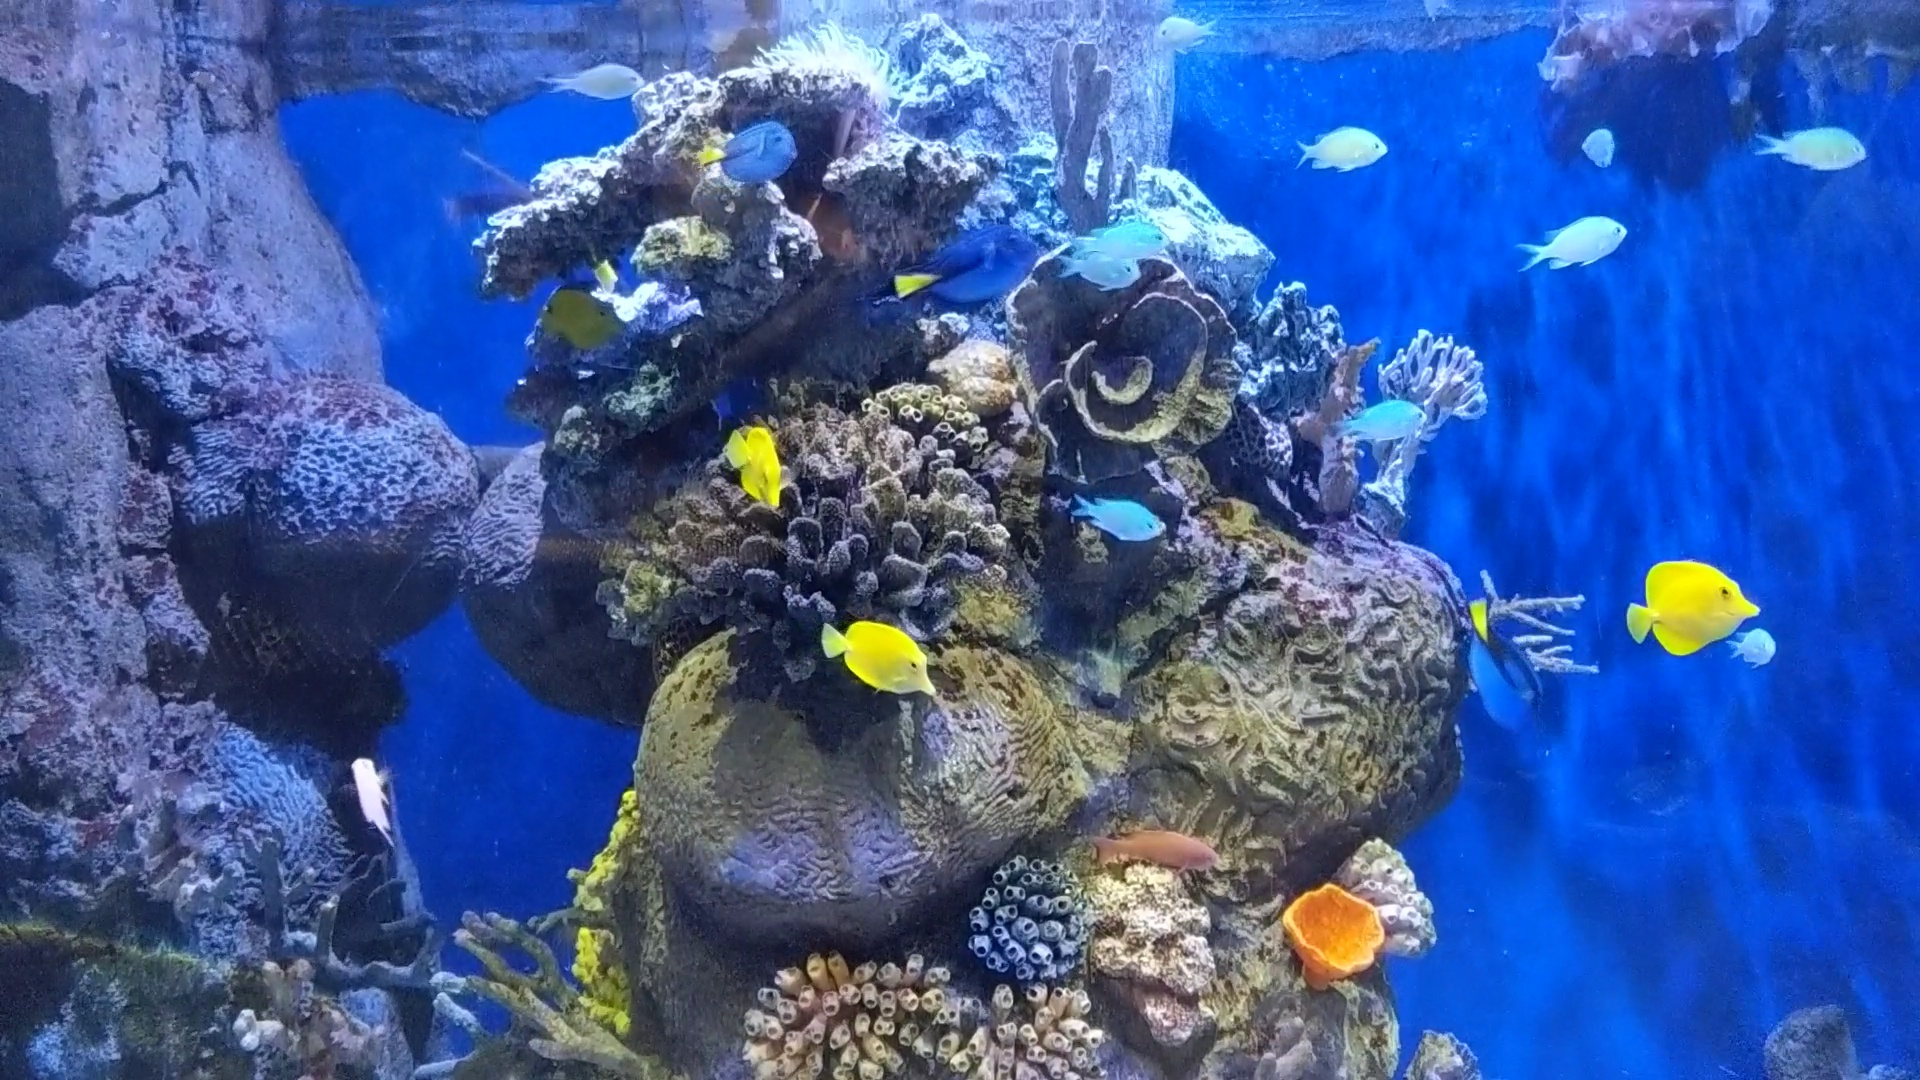blue tang surgeonfish: (890, 225, 1040, 309), (1457, 595, 1545, 735), (698, 121, 804, 181)
damselfish: (1514, 214, 1633, 277), (1753, 124, 1875, 181), (1290, 116, 1390, 175), (1067, 488, 1168, 543), (1331, 400, 1439, 448), (1059, 241, 1145, 298), (1072, 218, 1179, 262), (538, 62, 651, 103), (1727, 611, 1784, 680), (1150, 15, 1225, 55), (1584, 129, 1623, 173)
saddle butterfly fish: (1618, 556, 1762, 655), (815, 611, 938, 709), (530, 284, 650, 361), (716, 419, 798, 512)
